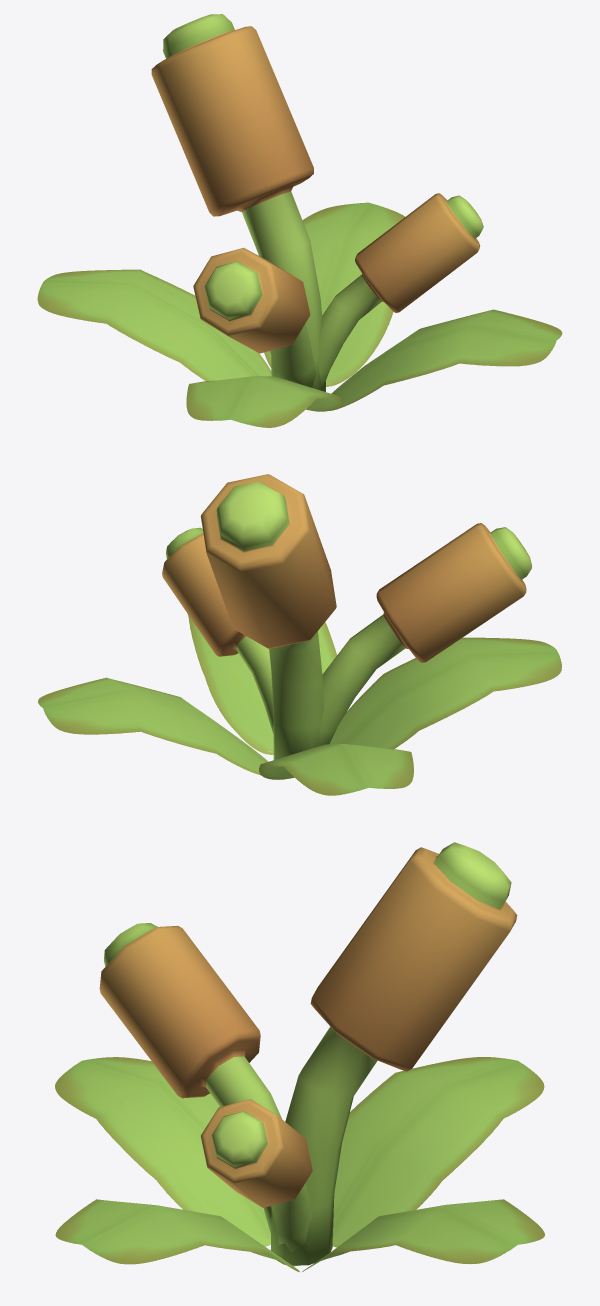
Rendered from mct_foliage_flower01.fbx.
3 views of the same model, one above another, from view 1: azimuth 30°, elevation 25°; view 2: azimuth 150°, elevation 25°; view 3: azimuth 270°, elevation 25° (orthographic). The views are drawn at different scales.
Parts seen in each view (by area): view 1: mct_foliage_flower_01; view 2: mct_foliage_flower_01; view 3: mct_foliage_flower_01.
Part boxes in pixels (bbox=[...]): mct_foliage_flower_01: bbox=[37, 14, 562, 427]; mct_foliage_flower_01: bbox=[38, 474, 561, 795]; mct_foliage_flower_01: bbox=[55, 842, 544, 1272].
Bounding box in the file's own units: 87.89 × 67.14 × 87.89.
